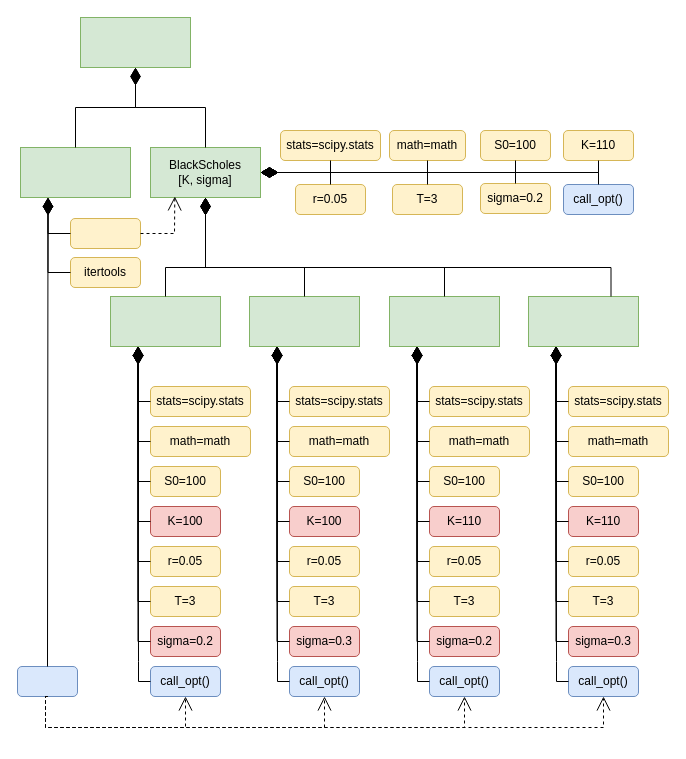
Some shapes in this 686 by 759 pixel diagram are drawn without their labels. The shapes that lost their labels are listed below. From the top down, each one's centre as x and y in pixels, then its label:
At point (135, 42): "Options".
At point (75, 172): "Summary".
At point (105, 233): "bs".
At point (165, 321): "BlackScholes [100, 0.2]".
At point (304, 321): "BlackScholes [100, 0.3]".
At point (444, 321): "BlackScholes [110, 0.2]".
At point (583, 321): "BlackScholes [110, 0.3]".
At point (47, 681): "result()".
